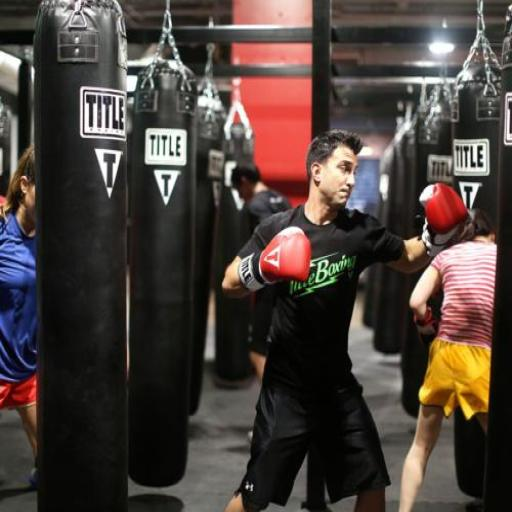boxing: (224, 58, 488, 512)
